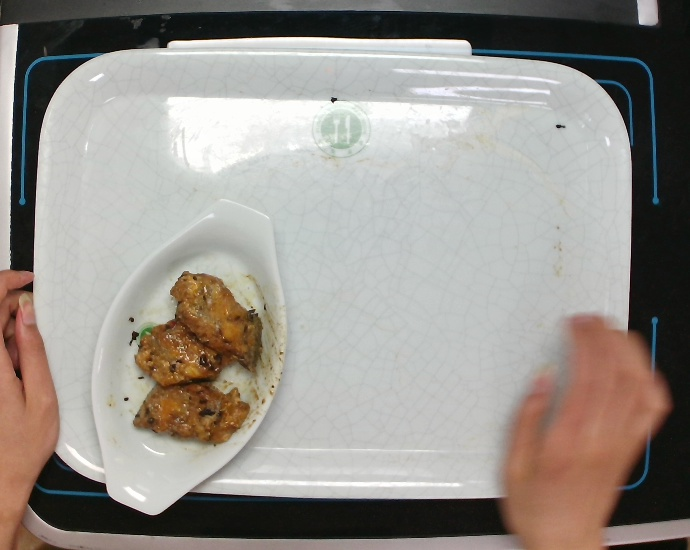JYsf-Yu_Pan: (82, 188, 291, 518)
